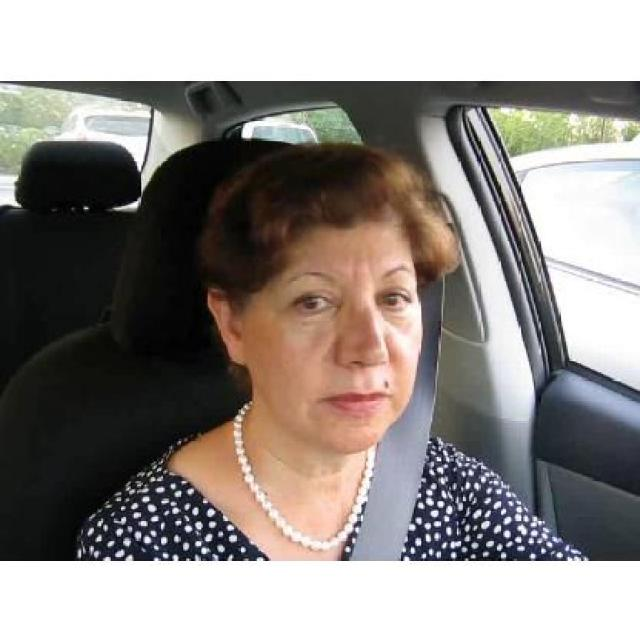attentif: (206, 143, 425, 454)
